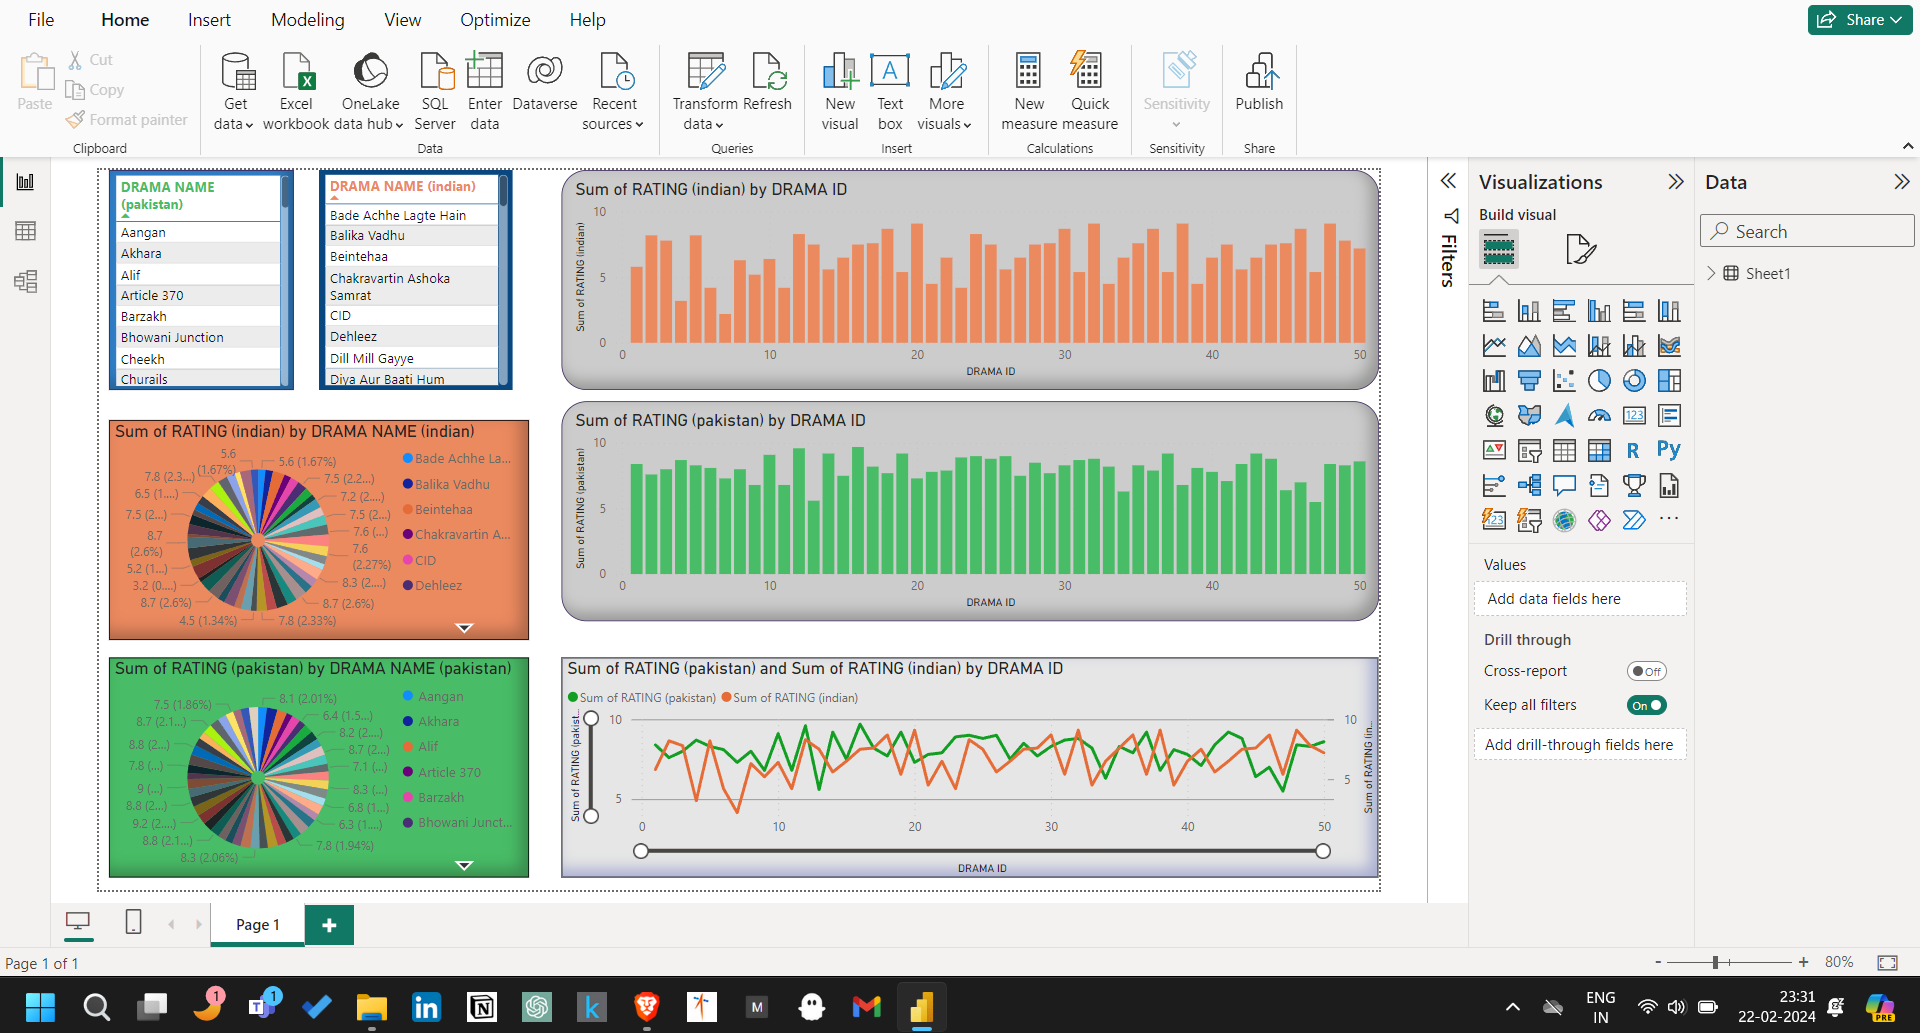

Layout of this report page (visuals, bound fields, positions):
{"tool":"powerbi","page":{"name":"Page 1","canvas":[1280,720],"ordinal":0},"visuals":[{"type":"tableEx","fields":{"Values":["Sheet1.DRAMA NAME (pakistan)"]},"box":[10,0,185,220],"z":0},{"type":"lineStackedColumnComboChart","fields":{"Category":["Sheet1.DRAMA ID "],"Y":["Sum(Sheet1.RATING (indian))"]},"box":[462.5,0,817.5,220],"z":1000},{"type":"lineStackedColumnComboChart","fields":{"Category":["Sheet1.DRAMA ID "],"Y":["Sum(Sheet1.RATING (pakistan))"]},"box":[462.5,231.2,817.5,220],"z":2000},{"type":"donutChart","fields":{"Y":["Sum(Sheet1.RATING (indian))"],"Series":["Sheet1.DRAMA NAME (indian)"]},"box":[10,250,420,220],"z":3000},{"type":"tableEx","fields":{"Values":["Sheet1.DRAMA NAME (indian)"]},"box":[220,0,193.8,220],"z":3001},{"type":"donutChart","fields":{"Y":["Sum(Sheet1.RATING (pakistan))"],"Series":["Sheet1.DRAMA NAME (pakistan)"]},"box":[10,487.5,420,220],"z":3002},{"type":"lineChart","fields":{"Y":["Sum(Sheet1.RATING (pakistan))"],"Y2":["Sum(Sheet1.RATING (indian))"],"Category":["Sheet1.DRAMA ID "]},"box":[463,488,817,220],"z":3003}]}

Visuals, with their boxes on the page's 1280x720 design canvas (x1, y1, x2, y2). These are canvas units, not pixel positions in the 1920x1033 screenshot, which may show the page scaled, cropped or inside an application window:
tableEx - Sheet1.DRAMA NAME (pakistan): box(10, 0, 195, 220)
lineStackedColumnComboChart - Sheet1.DRAMA ID  x Sum(Sheet1.RATING (indian)): box(462, 0, 1280, 220)
lineStackedColumnComboChart - Sheet1.DRAMA ID  x Sum(Sheet1.RATING (pakistan)): box(462, 231, 1280, 451)
donutChart - Sum(Sheet1.RATING (indian)) x Sheet1.DRAMA NAME (indian): box(10, 250, 430, 470)
tableEx - Sheet1.DRAMA NAME (indian): box(220, 0, 414, 220)
donutChart - Sum(Sheet1.RATING (pakistan)) x Sheet1.DRAMA NAME (pakistan): box(10, 488, 430, 708)
lineChart - Sum(Sheet1.RATING (pakistan)) x Sum(Sheet1.RATING (indian)): box(463, 488, 1280, 708)
